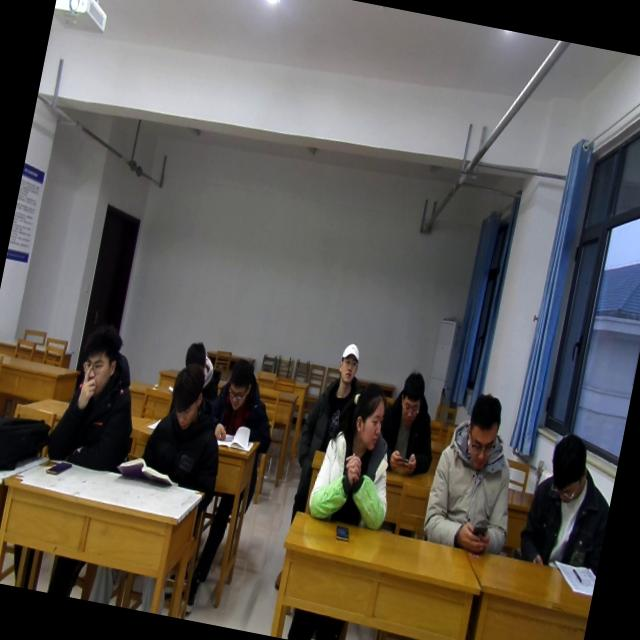down: (72, 317, 130, 407), (458, 386, 508, 476), (540, 425, 594, 507), (164, 355, 212, 436), (392, 368, 433, 430), (220, 352, 258, 411), (178, 336, 211, 378)
lookup: (333, 336, 365, 388)
sit: (417, 380, 538, 556), (41, 323, 150, 480), (304, 382, 408, 539), (515, 426, 622, 576), (137, 359, 237, 498), (298, 328, 370, 482), (371, 363, 446, 478), (212, 352, 288, 457), (170, 328, 224, 406)
